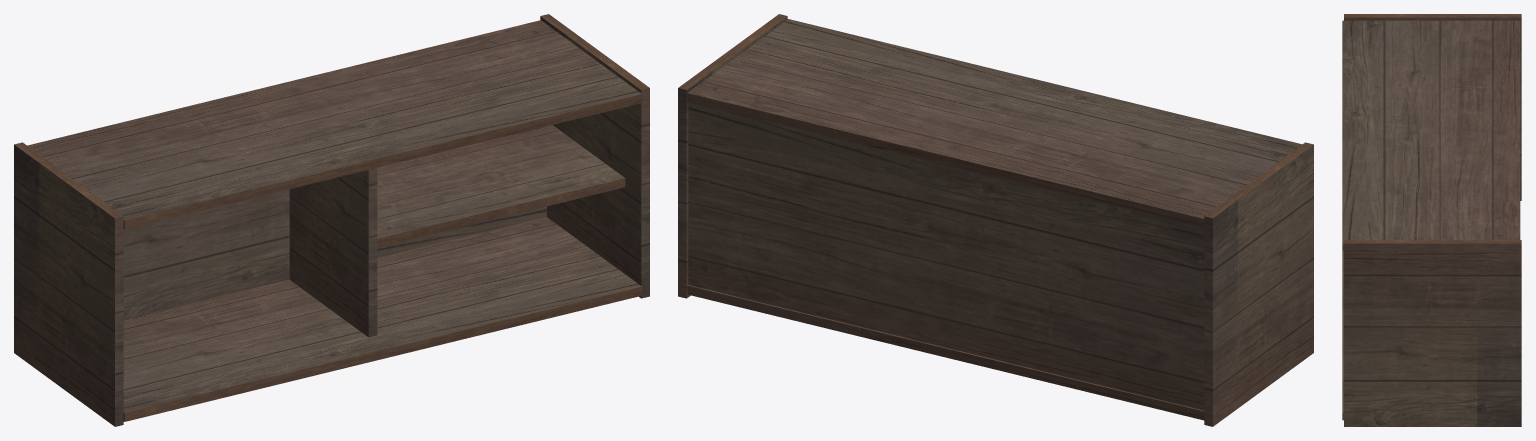
Rendered from jov_shelf05a.fbx.
3 renders of one model, left to right at view 1: azimuth 30°, elevation 25°; view 2: azimuth 150°, elevation 25°; view 3: azimuth 270°, elevation 25°, orthographic. The views are drawn at different scales.
Visible parts, largest first — view 1: jov_shelf05a; view 2: jov_shelf05a; view 3: jov_shelf05a.
Boxes of the visible parts, x1,y1,x2,y2 form: jov_shelf05a: (14,14,649,426); jov_shelf05a: (678,14,1313,426); jov_shelf05a: (1342,14,1521,426).
Size of the model in its own units: 154 by 57.55 by 50.97.
